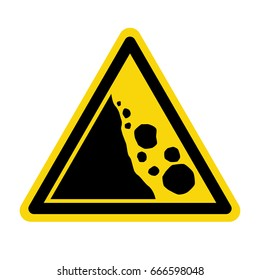FallenSign: (18, 27, 246, 225)
